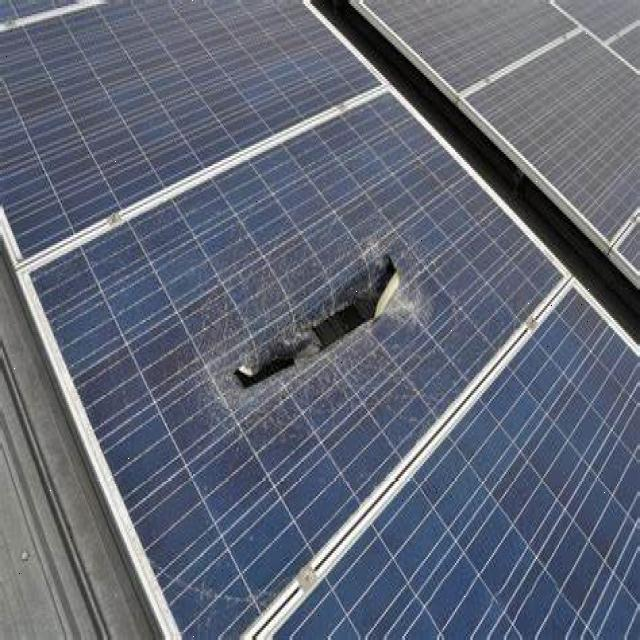Anomaly Solar Panel: (25, 87, 572, 639), (349, 0, 640, 285)
Normal Solar Panel: (260, 281, 640, 638), (1, 1, 386, 260)
Structural Damage: (193, 226, 435, 428)
Surface Contaminant: (361, 0, 640, 272)
